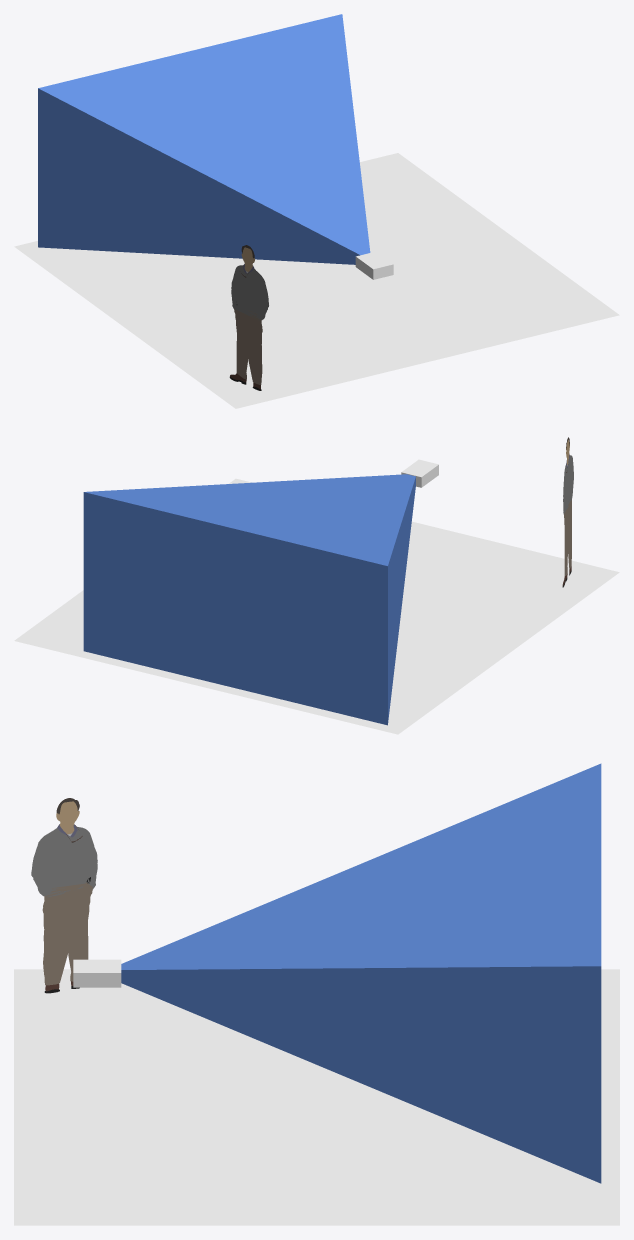
File: SET_02_ARBOL-SECO.obj
3 renders of one model, top to bottom at view 1: azimuth 30°, elevation 25°; view 2: azimuth 150°, elevation 25°; view 3: azimuth 270°, elevation 25°, orthographic. The views are drawn at different scales.
Parts seen in each view (by area): view 1: Mesh2 Component_7_1 Component_8_1 Model, Mesh4 Component_9_1 Model, Mesh1 Derrick1 Model, Mesh3 Component_6_1 Component_8_1 Model; view 2: Mesh2 Component_7_1 Component_8_1 Model, Mesh4 Component_9_1 Model, Mesh1 Derrick1 Model, Mesh3 Component_6_1 Component_8_1 Model; view 3: Mesh2 Component_7_1 Component_8_1 Model, Mesh4 Component_9_1 Model, Mesh1 Derrick1 Model, Mesh3 Component_6_1 Component_8_1 Model.
Boxes of the visible parts, x1,y1,x2,y2 form: Mesh2 Component_7_1 Component_8_1 Model: (38,14,370,264); Mesh4 Component_9_1 Model: (14,153,619,408); Mesh1 Derrick1 Model: (229,245,268,390); Mesh3 Component_6_1 Component_8_1 Model: (355,251,393,279); Mesh2 Component_7_1 Component_8_1 Model: (83,474,415,725); Mesh4 Component_9_1 Model: (14,478,619,734); Mesh1 Derrick1 Model: (562,437,573,587); Mesh3 Component_6_1 Component_8_1 Model: (401,459,438,487); Mesh2 Component_7_1 Component_8_1 Model: (121,763,601,1183); Mesh4 Component_9_1 Model: (14,969,619,1225); Mesh1 Derrick1 Model: (31,798,97,993); Mesh3 Component_6_1 Component_8_1 Model: (73,959,121,987).
Size of the model in its own units: 5000 by 1980 by 5000.
